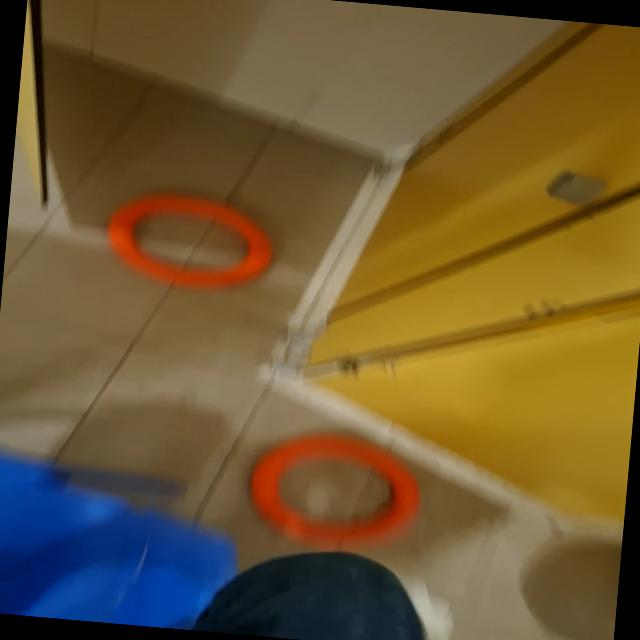note: (243, 424, 426, 556), (102, 187, 278, 296)
